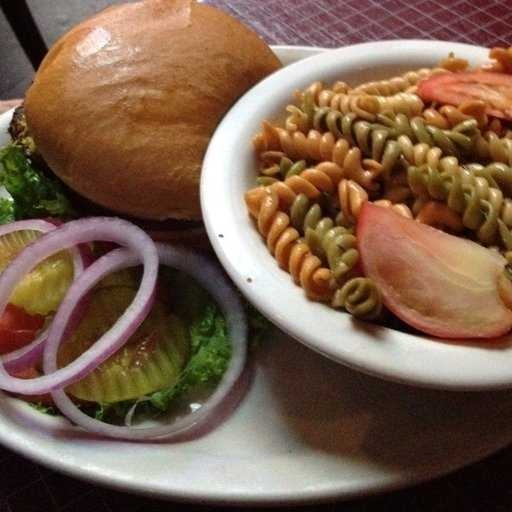hamburger: (1, 2, 300, 225)
